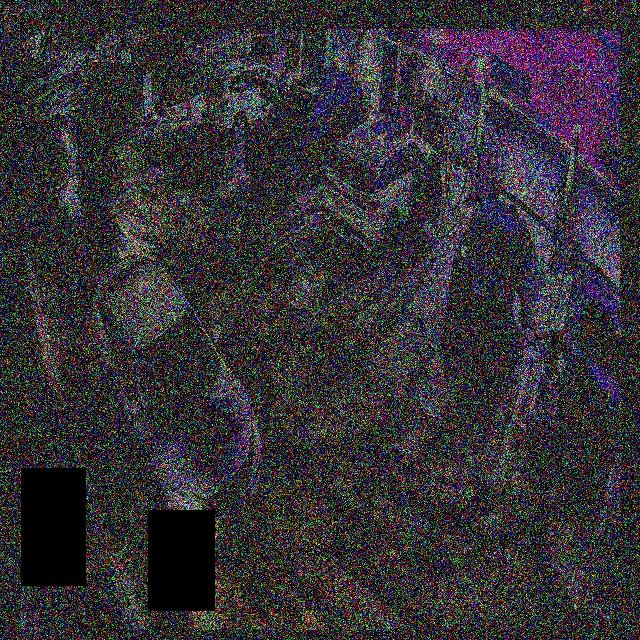Car: (90, 248, 263, 549), (324, 117, 440, 265), (243, 67, 367, 194), (447, 193, 532, 335), (201, 61, 298, 145)
